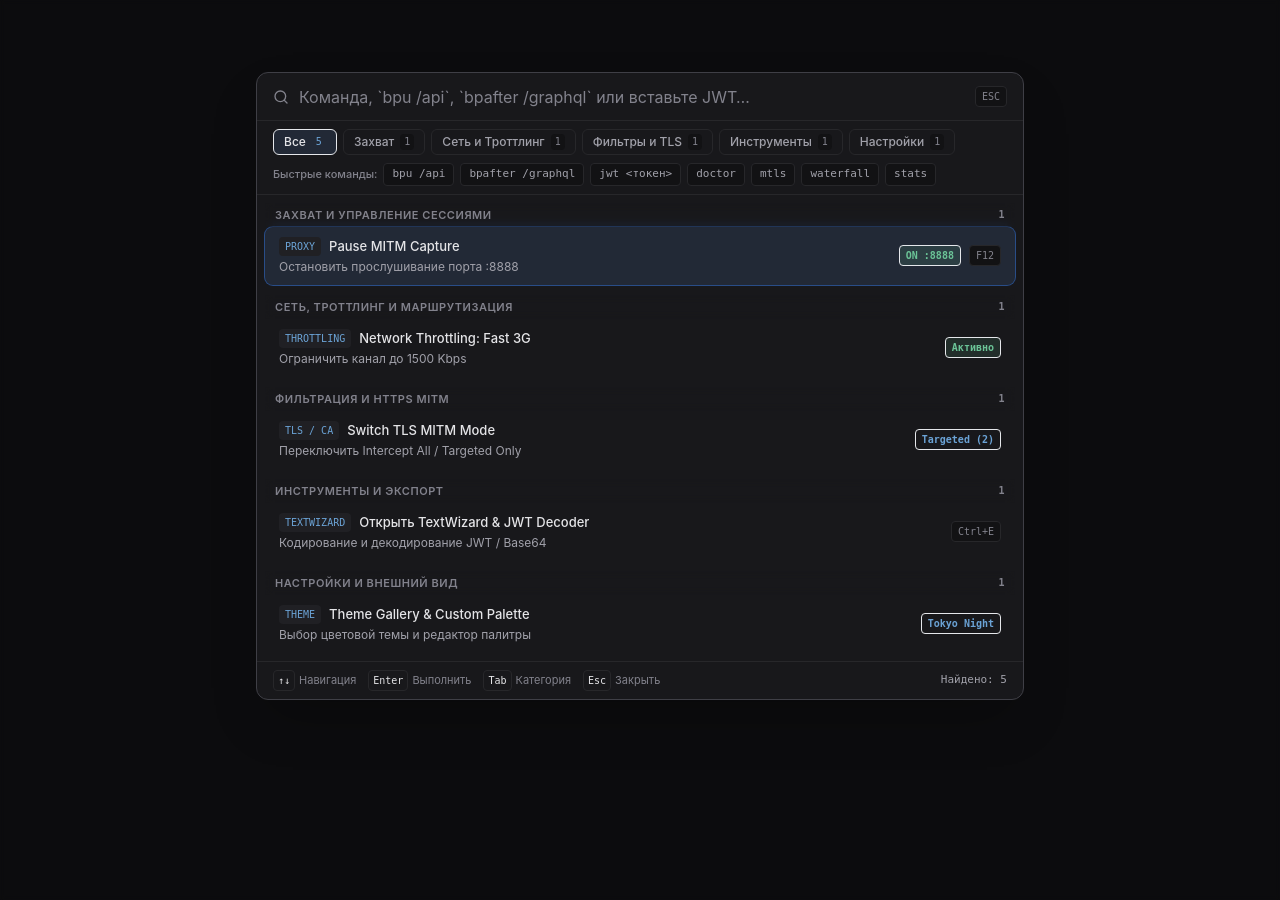
Scenario: CommandPalette 2.0 › supports QuickExec stats and waterfall commands
Later steps or results of the test are not shown.
Step 1. Type "stats" into the field named "Search commands" → (632, 96), box [299, 72, 965, 120]
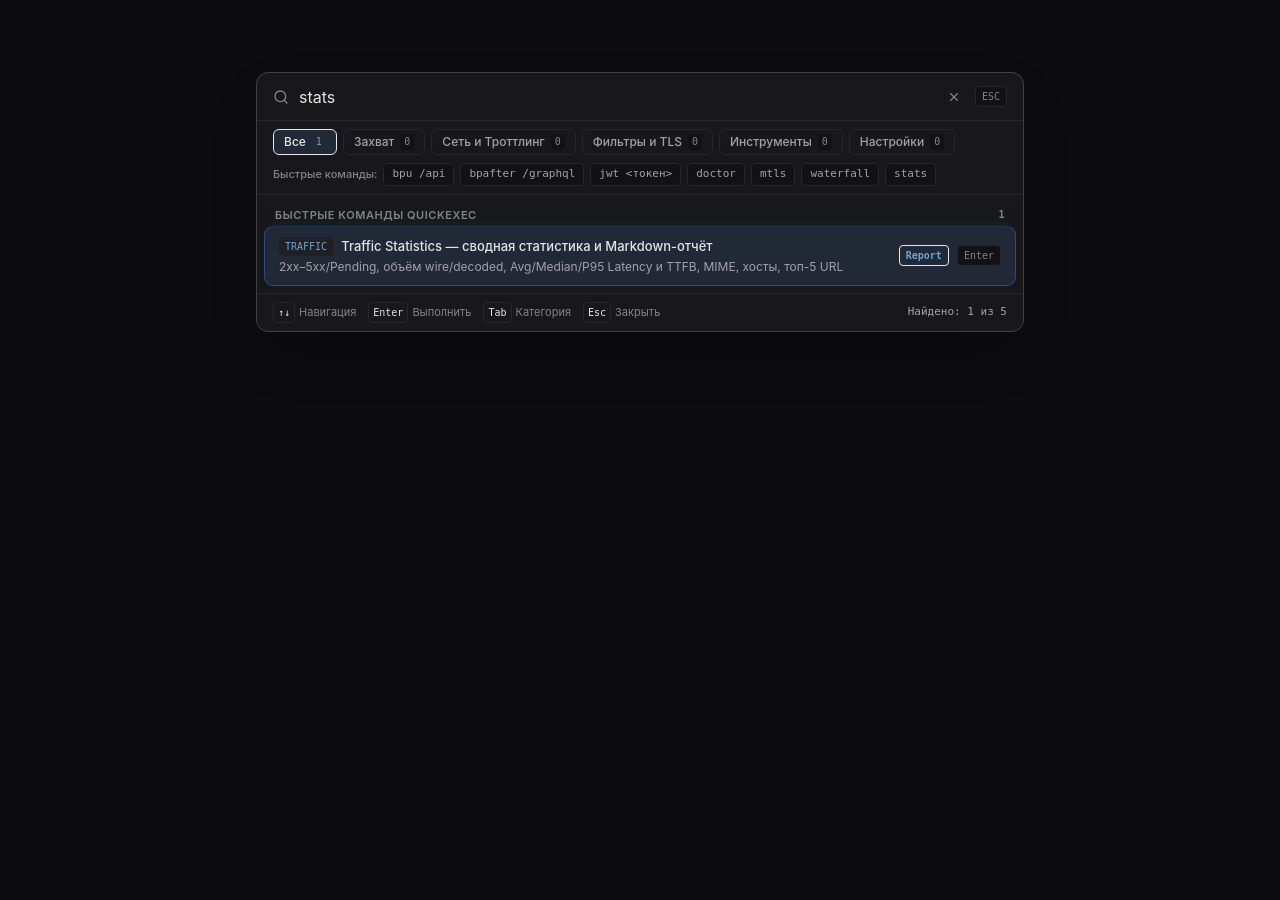
Expected: the text "Traffic Statistics — сводная статистика и Markdown-отчёт" is shown, [341, 237, 713, 256]
